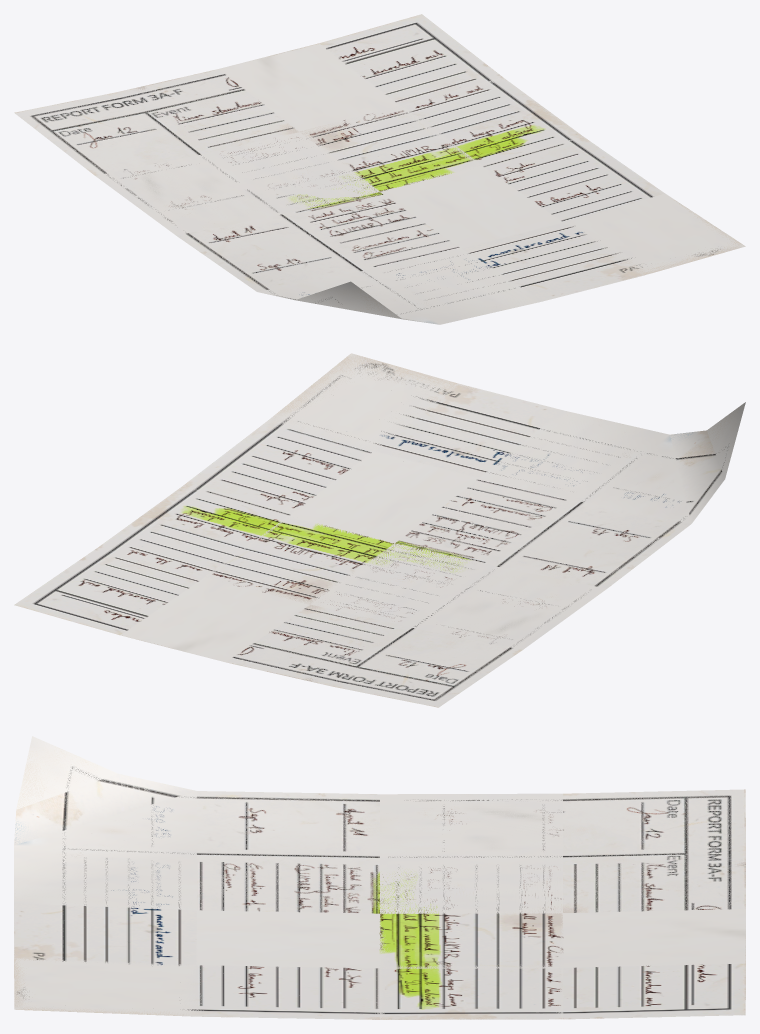
File: note_comroom_tau_03.dae
3 views of the same model, one above another, from view 1: azimuth 30°, elevation 25°; view 2: azimuth 150°, elevation 25°; view 3: azimuth 270°, elevation 25° (orthographic). The views are drawn at different scales.
Parts seen in each view (by area): view 1: tau_note; view 2: tau_note; view 3: tau_note.
Boxes of the visible parts, x1,y1,x2,y2 form: tau_note: (14, 14, 745, 324); tau_note: (14, 353, 745, 707); tau_note: (14, 736, 745, 1019).
Size of the model in its own units: 0.2536 by 0.0404 by 0.3491.
